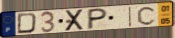3: (40, 10, 56, 34)
C: (136, 5, 158, 26)
D: (16, 12, 39, 35)
I: (128, 6, 133, 28)
P: (86, 7, 110, 31)
X: (64, 8, 85, 33)
